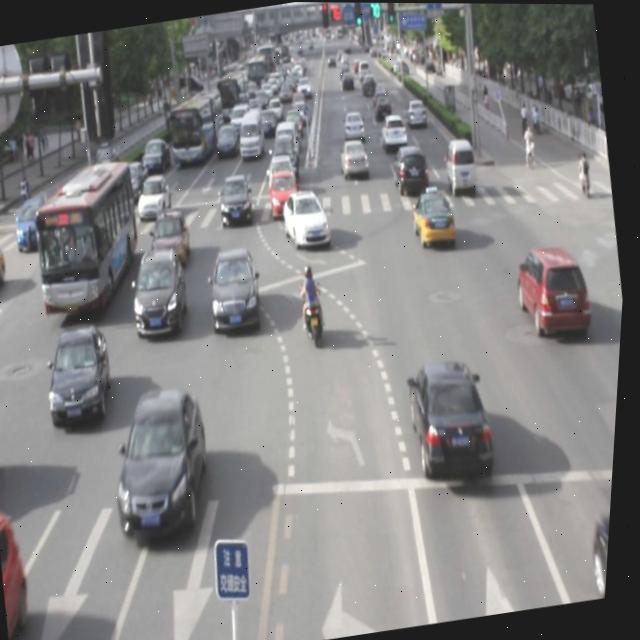car: (105, 380, 225, 540), (405, 350, 505, 483), (513, 238, 598, 342), (43, 322, 124, 426), (128, 245, 196, 337), (0, 504, 46, 639), (206, 243, 269, 334), (278, 187, 337, 252), (147, 206, 197, 272), (410, 186, 458, 249), (593, 504, 617, 598)
van: (27, 156, 156, 318)
